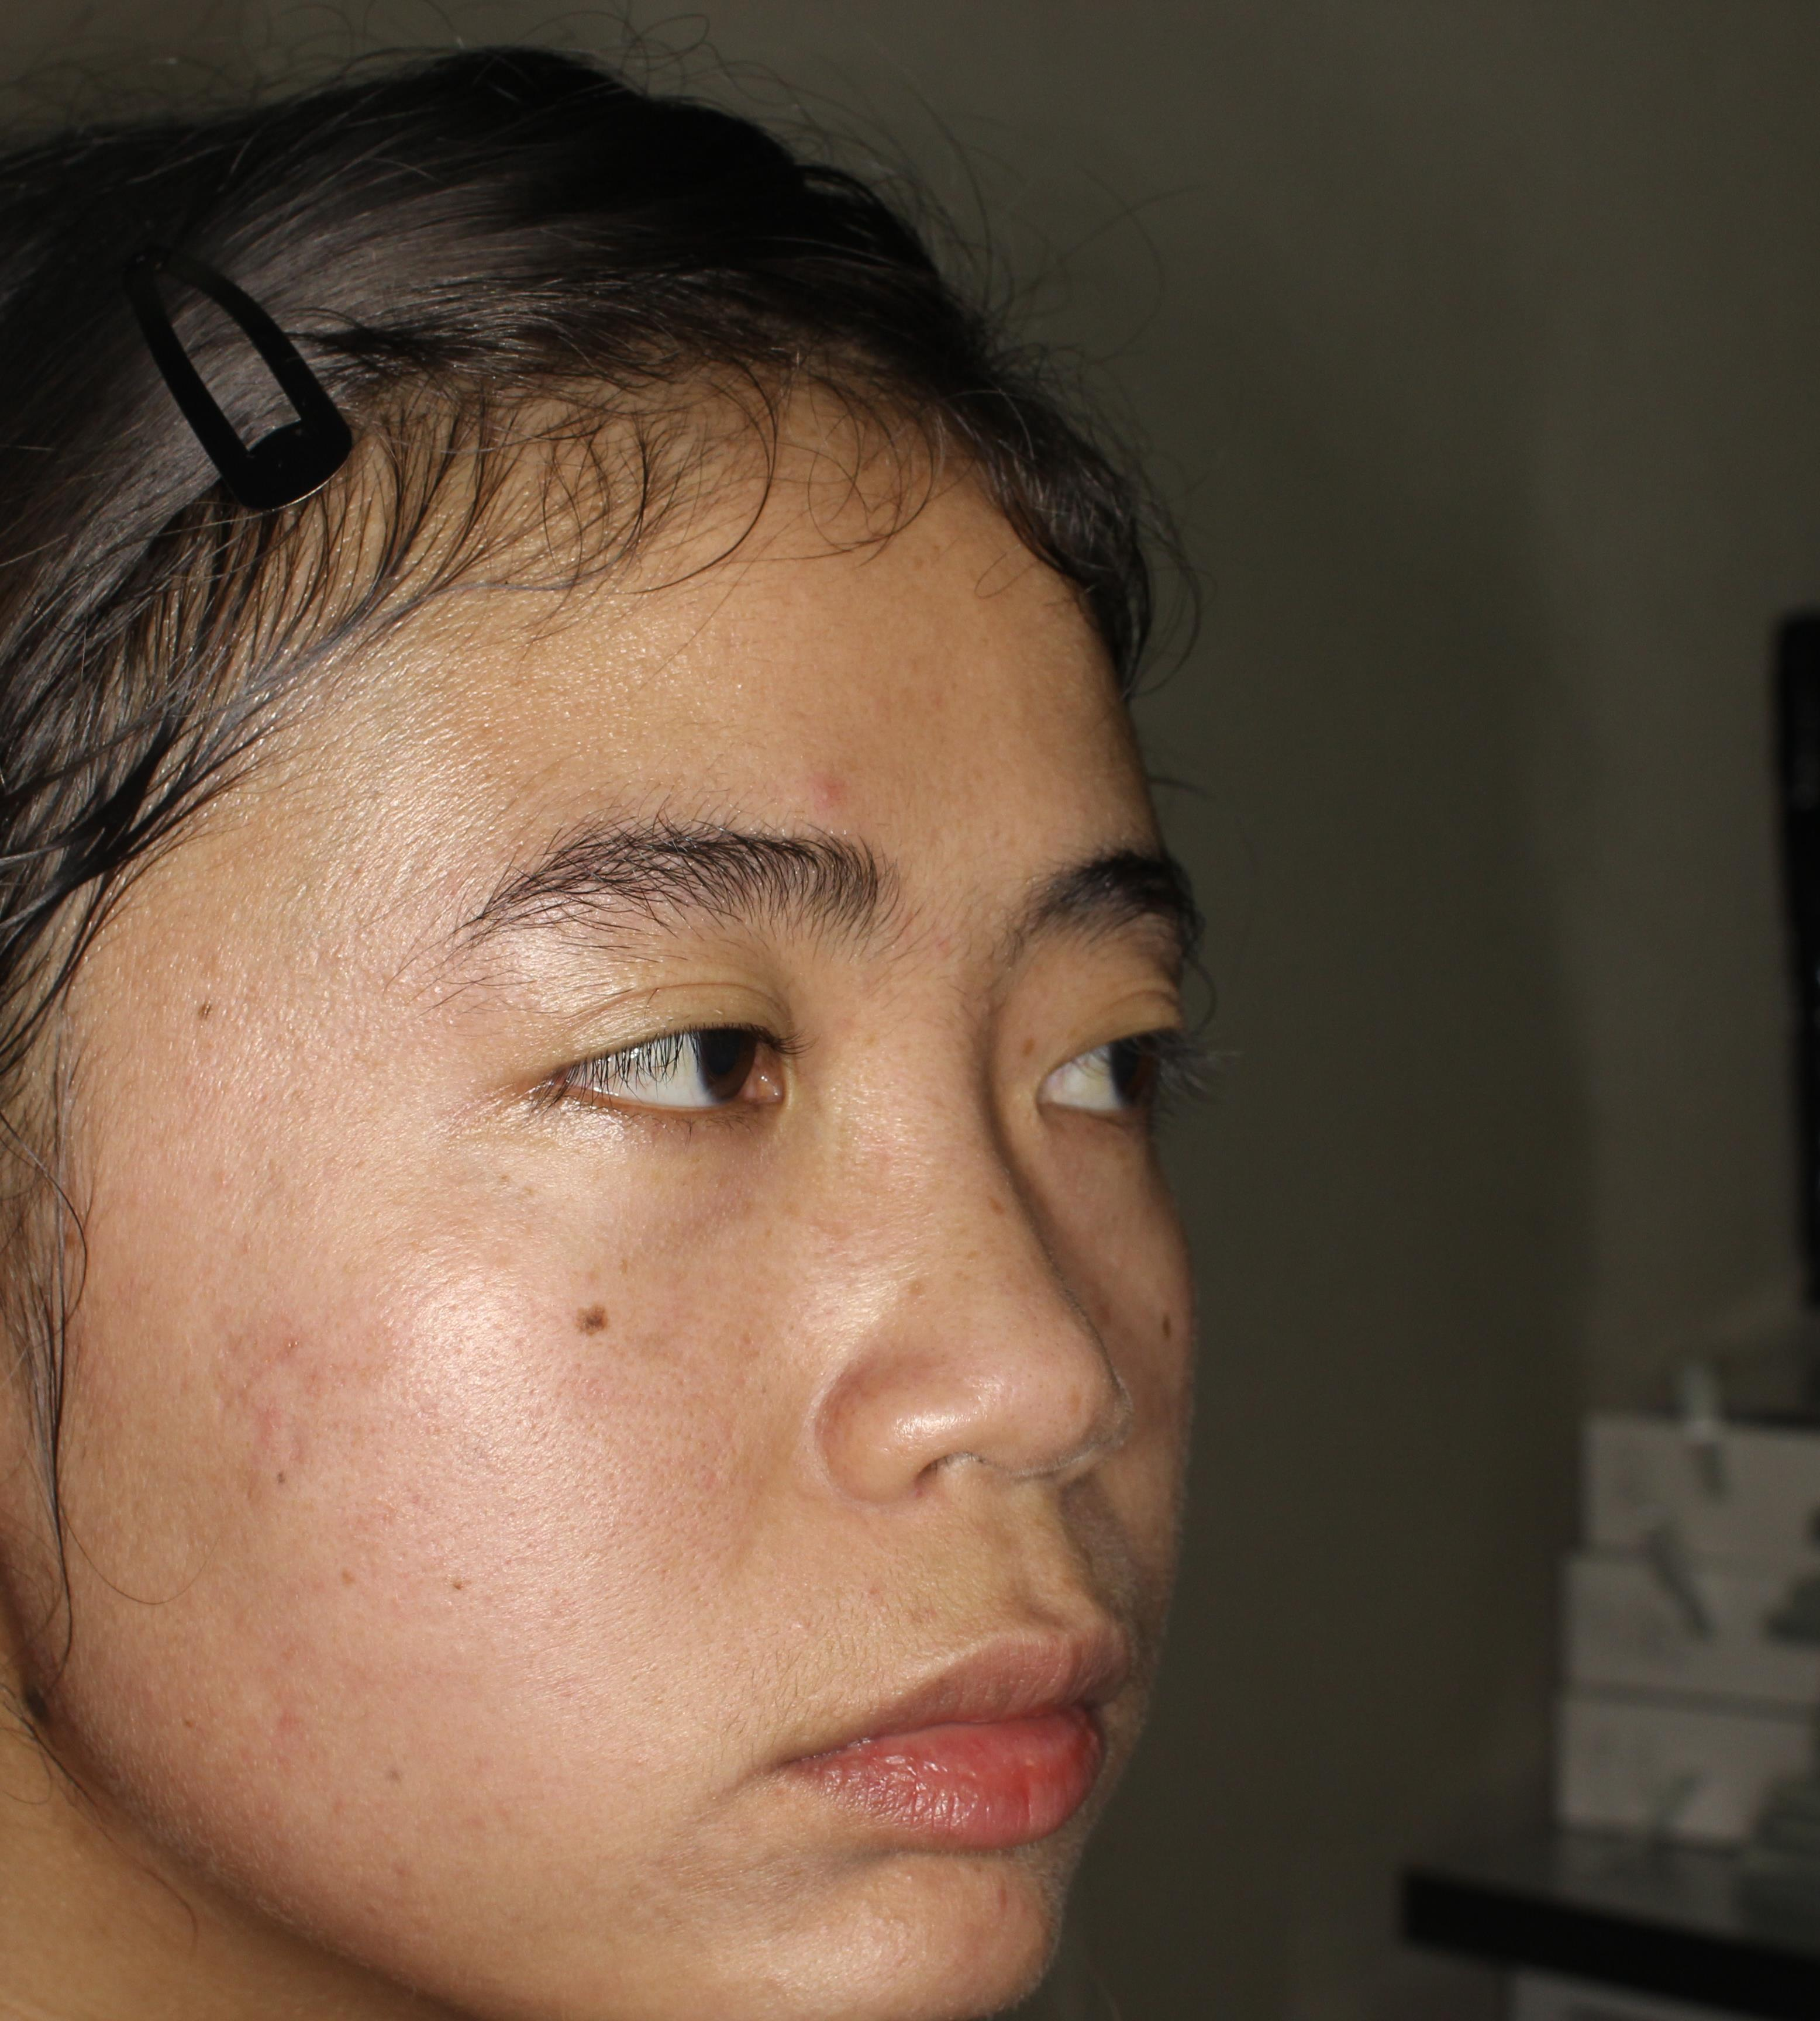fore: (768, 760, 861, 824)
